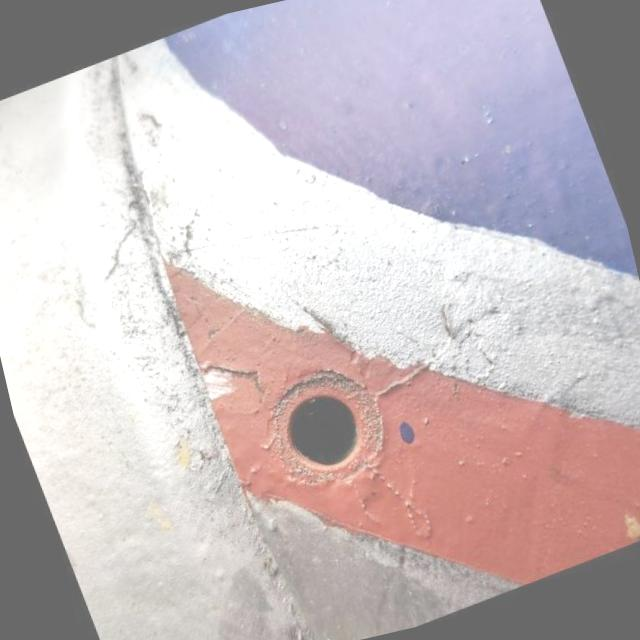Missing Fastener: (258, 360, 392, 491)
